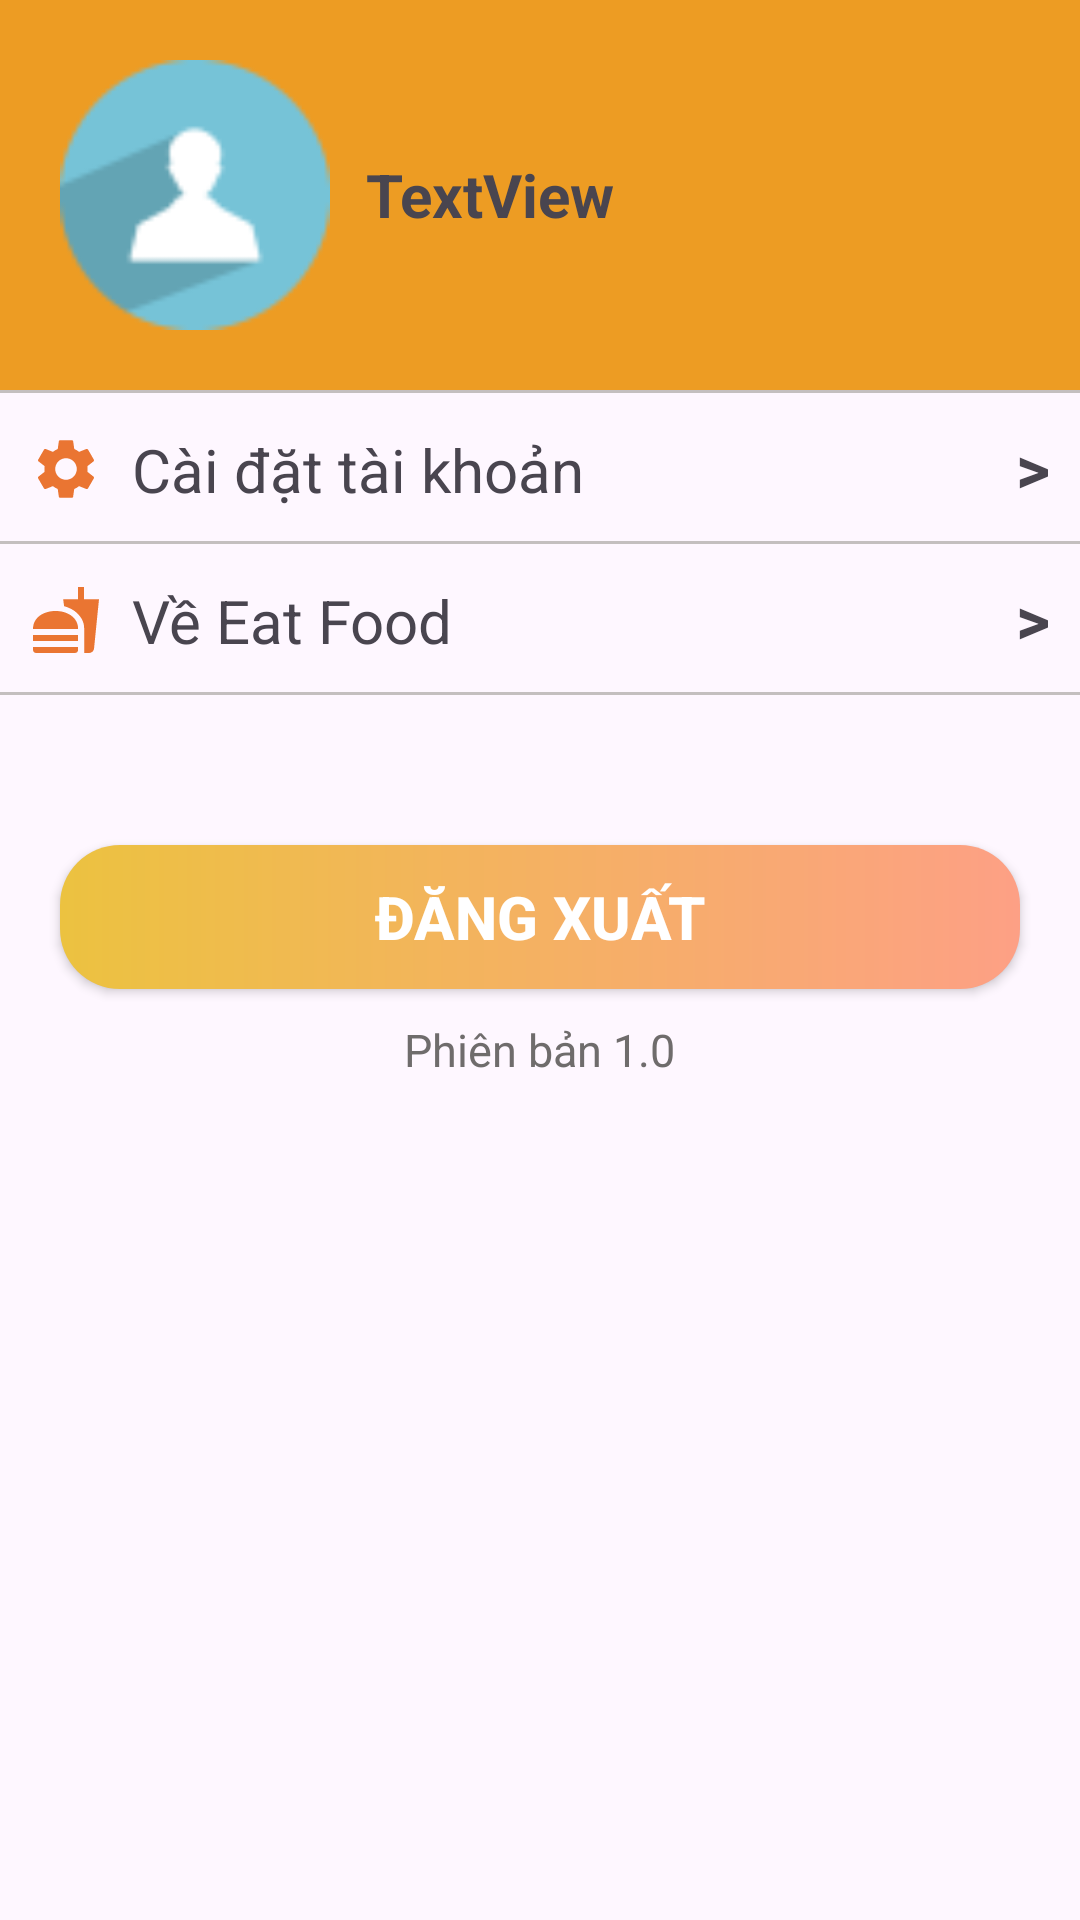

Icons on this 1080*1920 Android screen, each with its box as [left=x1, top=y1, right=x2, bottom=y2]:
iconperson: [left=60, top=60, right=330, bottom=330]
